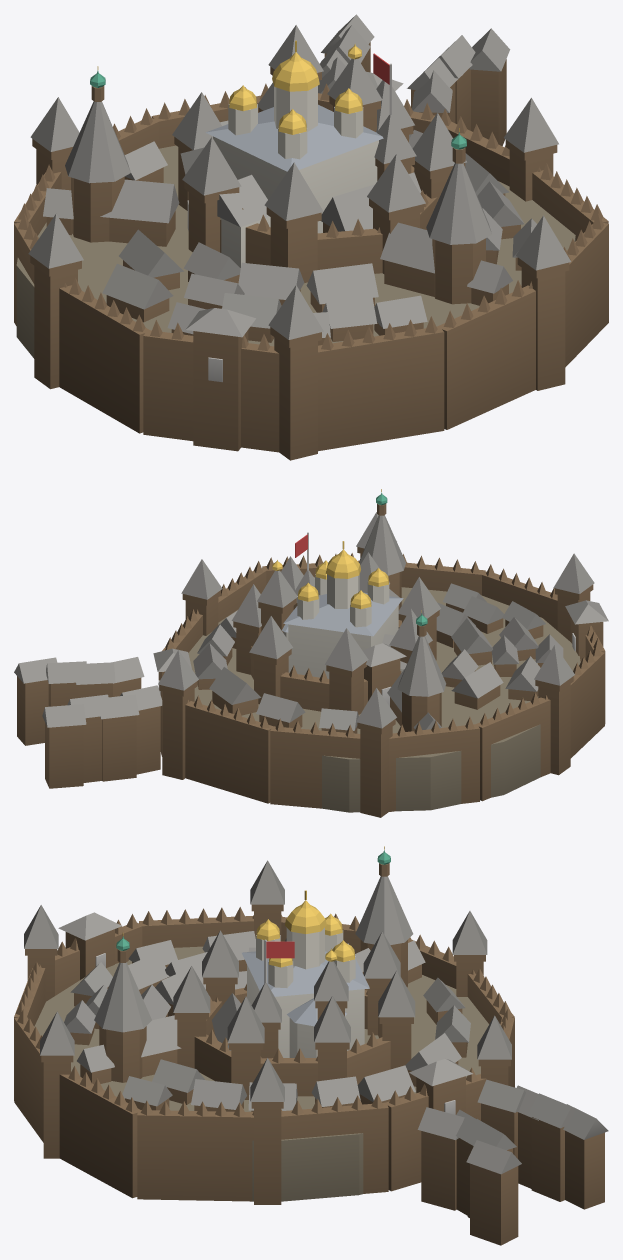
Rendered from city_rus_a.glb.
The picture shows the model from 3 angles, top to bottom: view 1: azimuth 30°, elevation 25°; view 2: azimuth 150°, elevation 25°; view 3: azimuth 270°, elevation 25°; orthographic projection. The views are drawn at different scales.
Visible parts, largest first — view 1: city_rus_a; view 2: city_rus_a; view 3: city_rus_a.
Part boxes in pixels (left/top/right/bottom): city_rus_a: left=14, top=14, right=608, bottom=460; city_rus_a: left=14, top=489, right=608, bottom=817; city_rus_a: left=14, top=846, right=608, bottom=1245.
Size of the model in its own units: 3.29 by 1.33 by 3.27.
